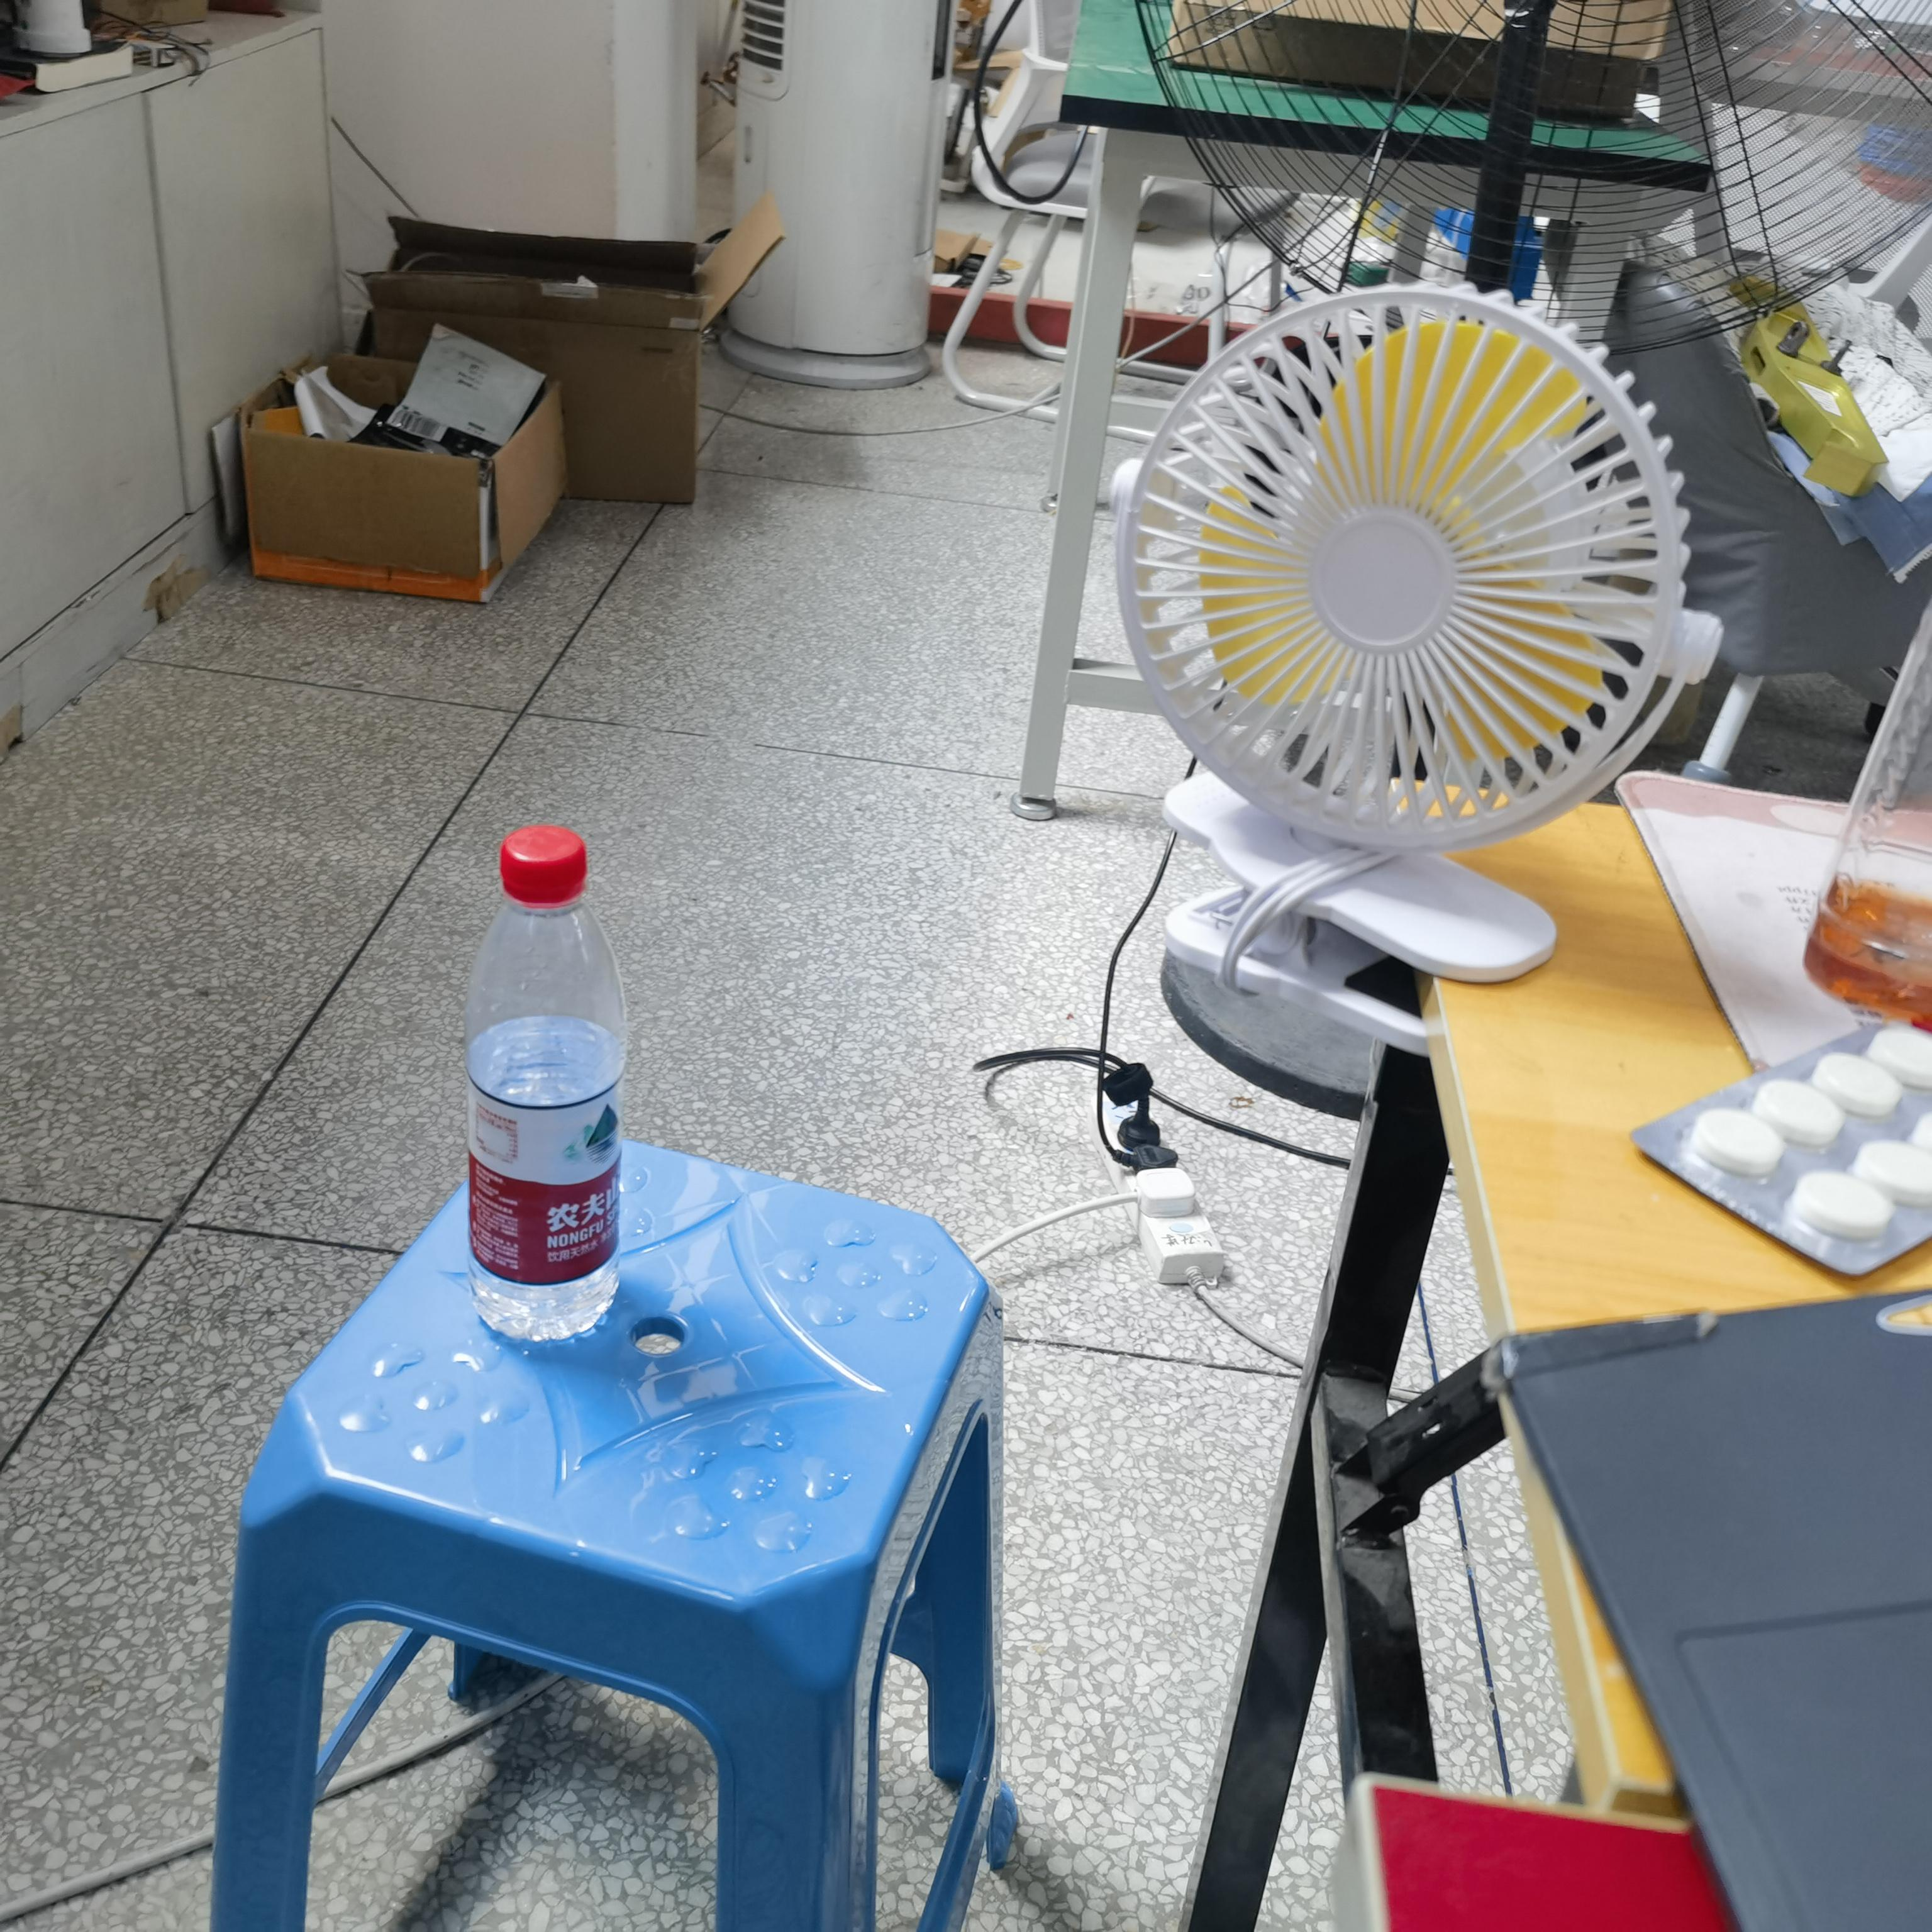bottle: (446, 809, 644, 1373)
fan: (1097, 271, 1723, 1065)
